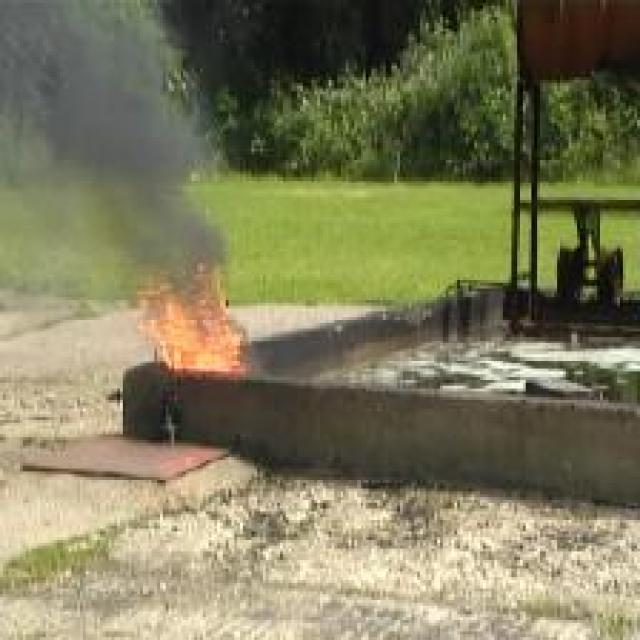Fire: (134, 266, 249, 374)
